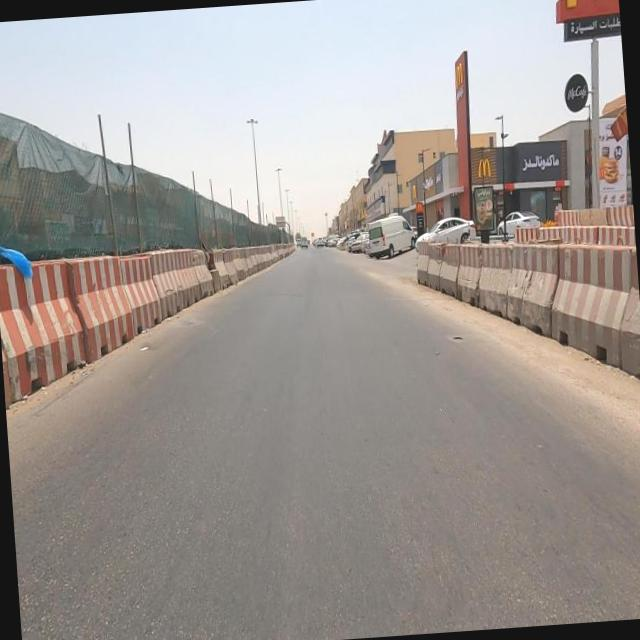debris: (0, 209, 57, 322)
